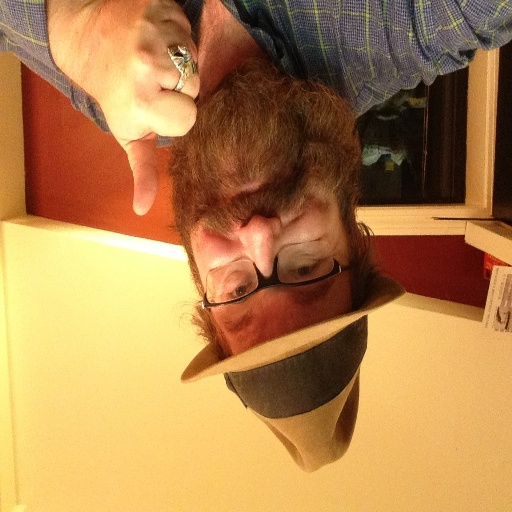hand: (30, 0, 217, 219)
